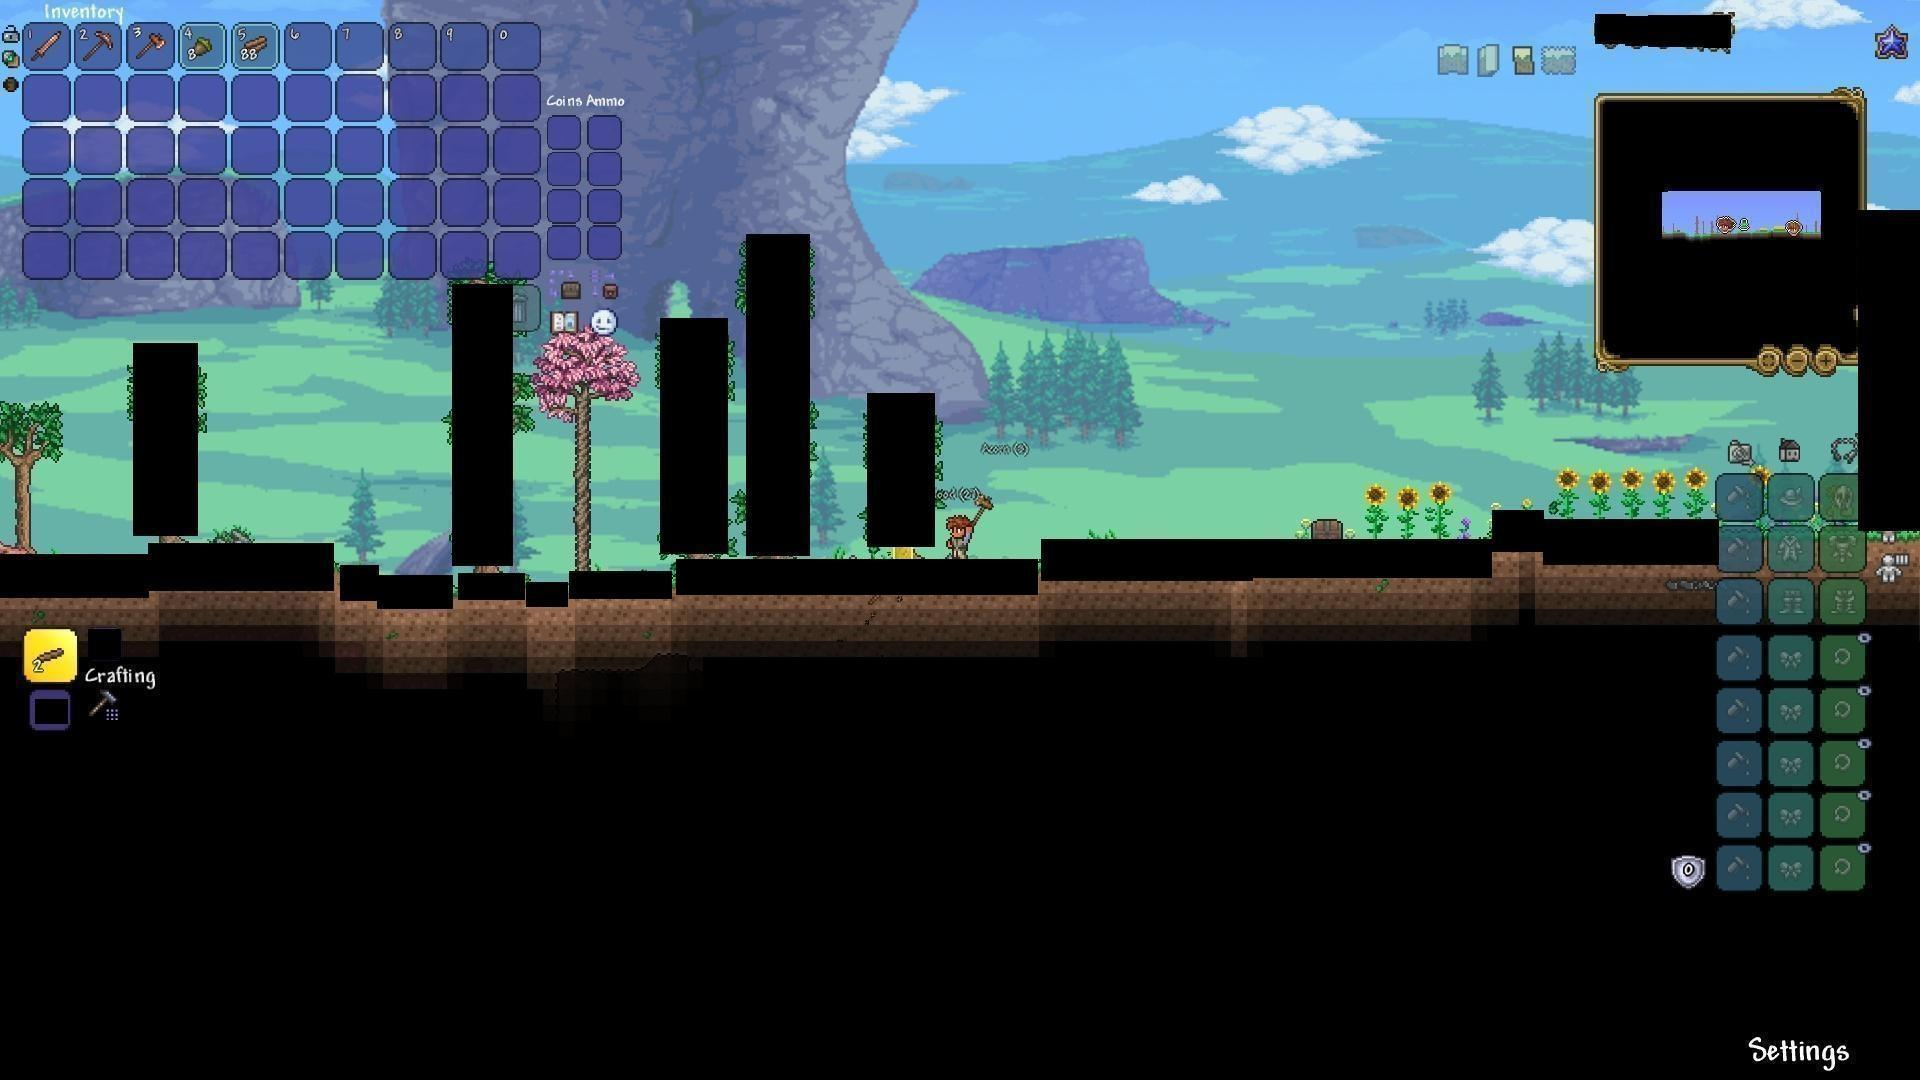tree: (535, 318, 632, 563), (1, 392, 55, 550)
wood: (243, 32, 266, 55)
